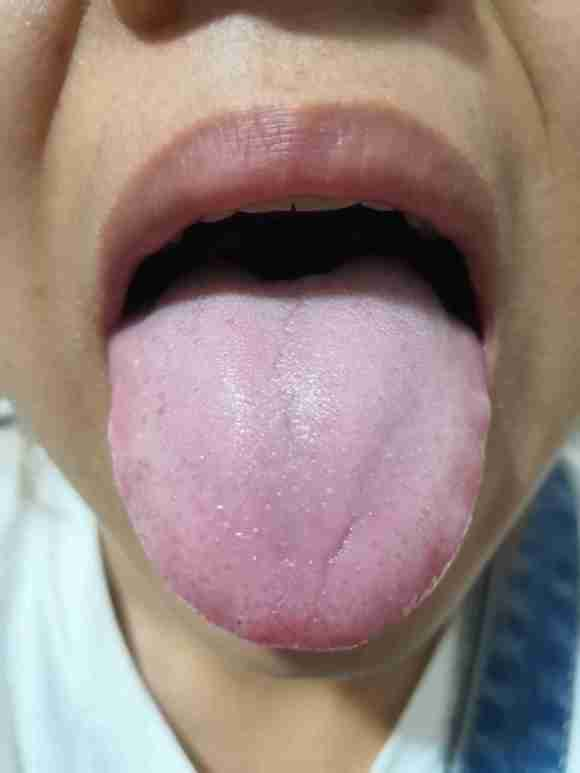baitaishe: (108, 255, 491, 652)
